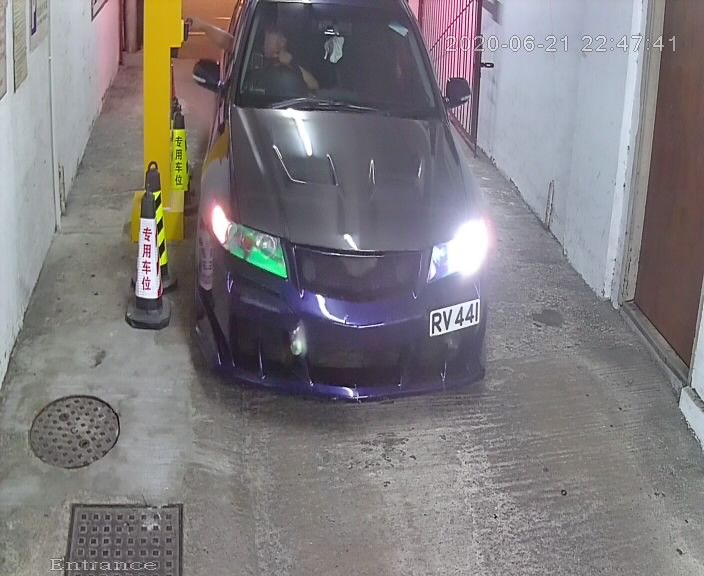privatecar: (159, 1, 503, 456)
